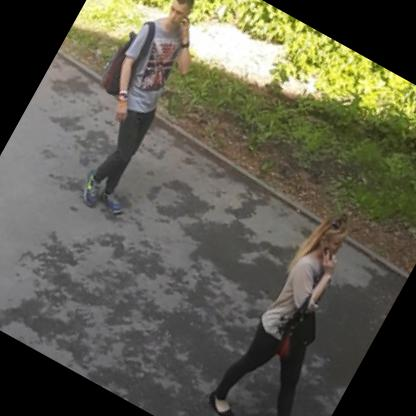Human Body: (188, 186, 415, 415), (37, 0, 244, 232)
